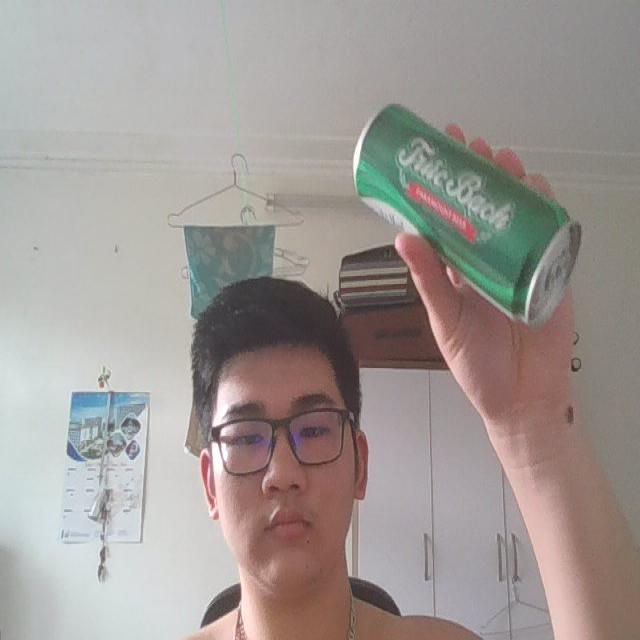Bia-Truc-Bach: (349, 104, 583, 330)
